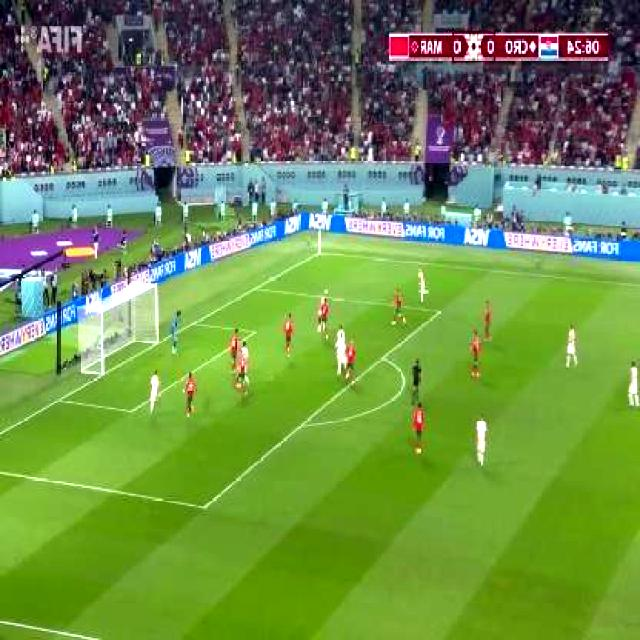bigarea_bottom_inner: (197, 492, 214, 520)
bigarea_top_inner: (437, 305, 446, 317)
bigarea_top_outter: (252, 283, 262, 292)
bottom_arc_area_intersection: (297, 417, 309, 434)
corner: (317, 250, 325, 256)
smallarea_bottom_inner: (126, 402, 139, 418)
smallarea_bottom_outter: (54, 394, 64, 406)
smallarea_top_inner: (251, 326, 260, 339)
smallarea_top_outter: (190, 317, 198, 329)
top_arc_area_intersection: (378, 349, 389, 365)
